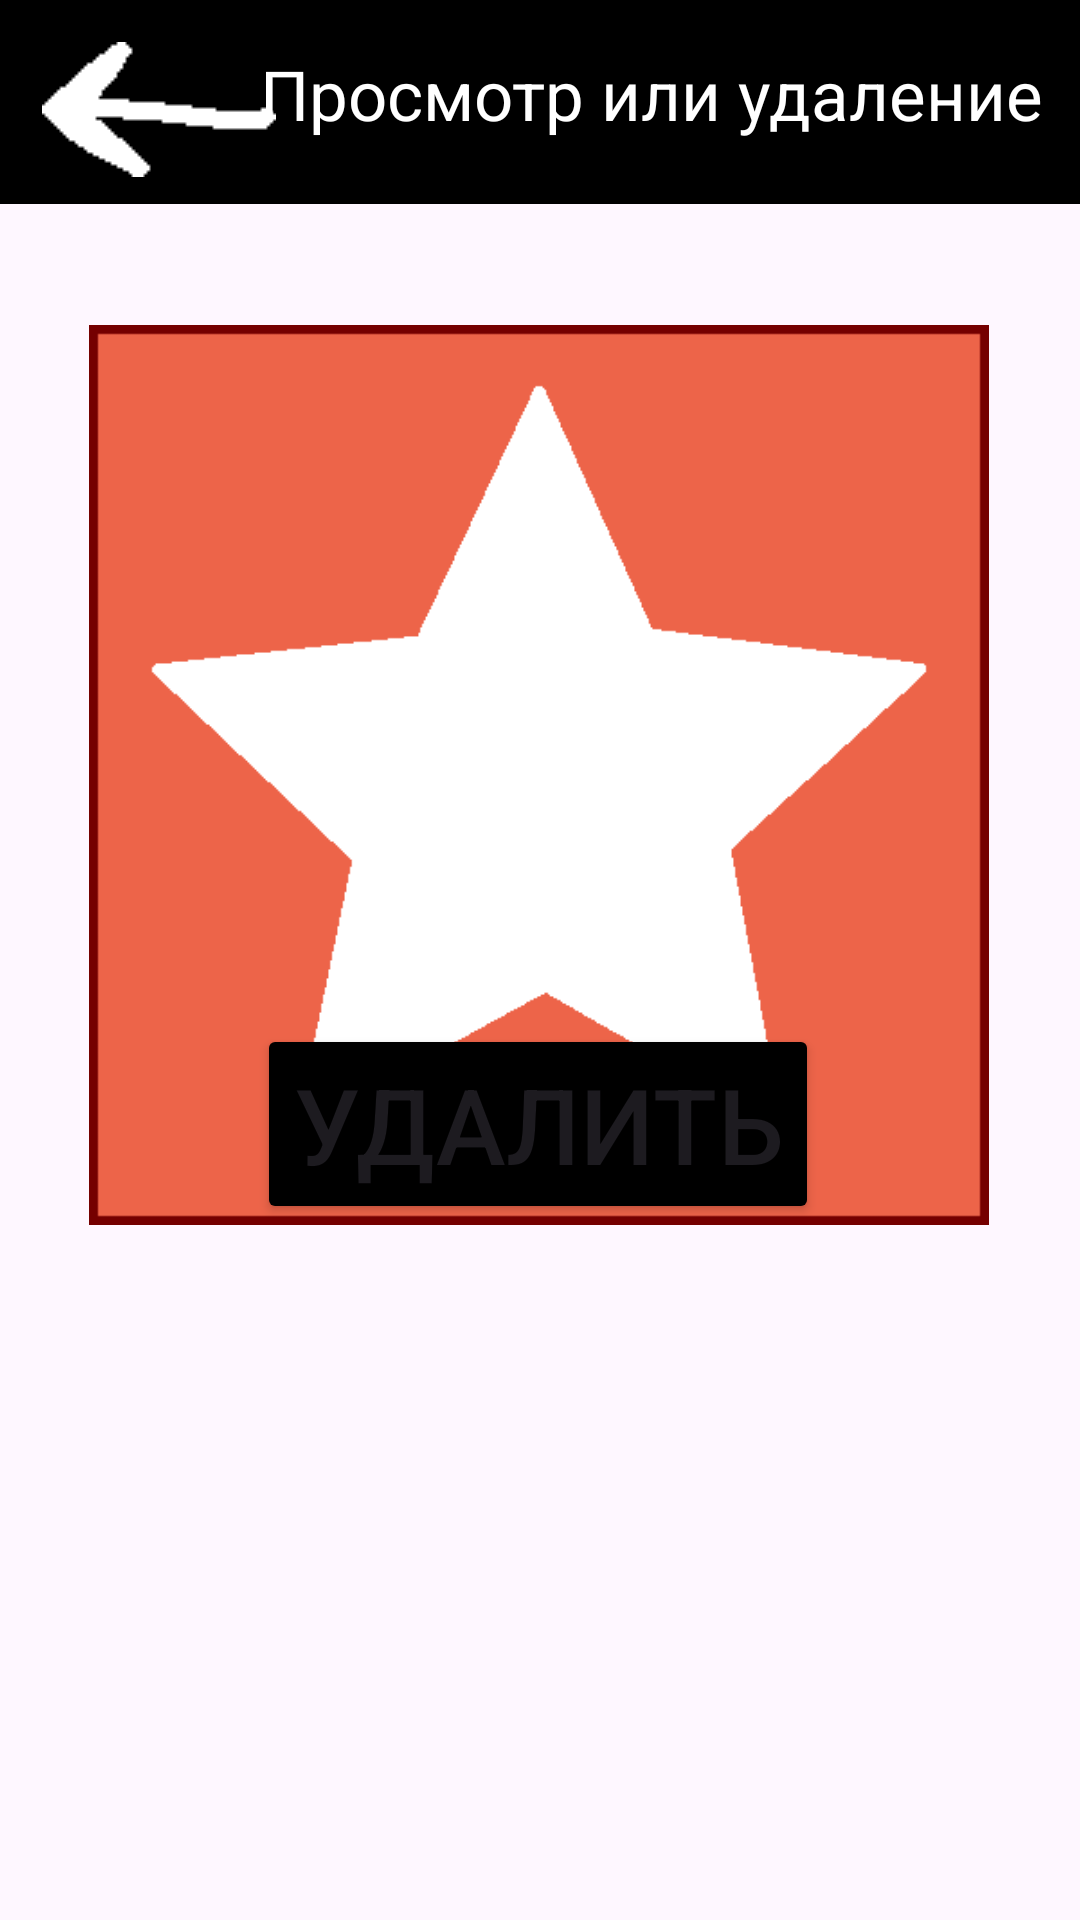

Icon click points for this 1080x1920 phone screenshot, format point (x, y):
arrow back: point (159, 109)
